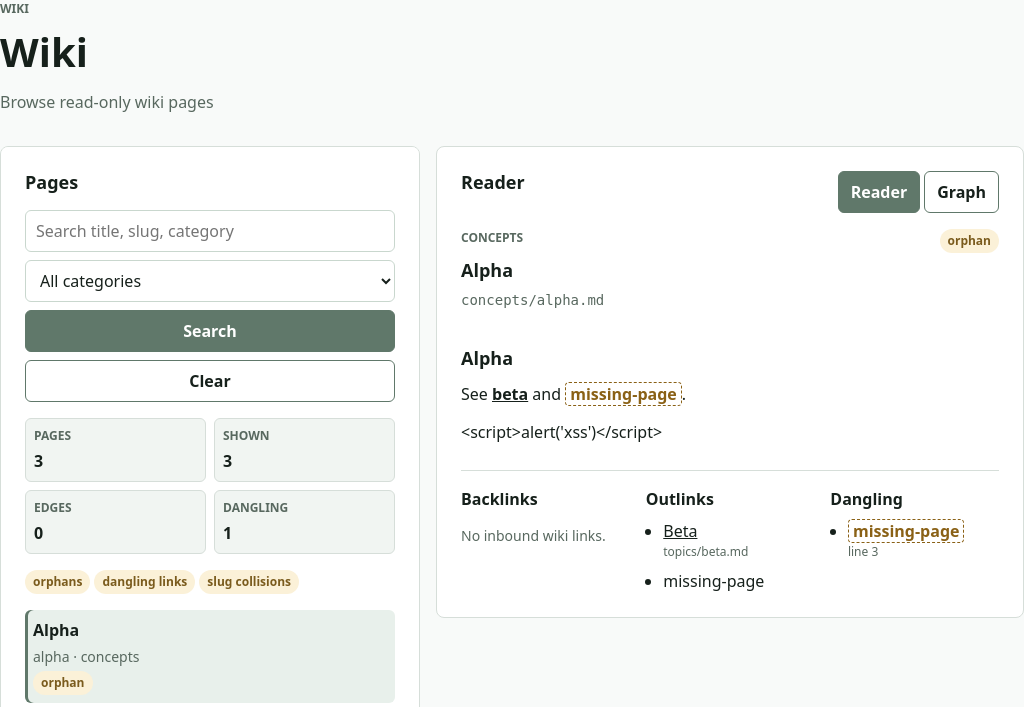
it: WikiRoute › renders read-only markdown, escapes raw HTML, and navigates wikilinks in-app
Check: the 1st heading "Alpha" is shown, box 461,258 -> 513,282
Check: the text "<script>alert('xss')</script>" is shown, box 461,421 -> 662,443
Click the link "beta".
click(510, 394)  # box 492,383 -> 528,405
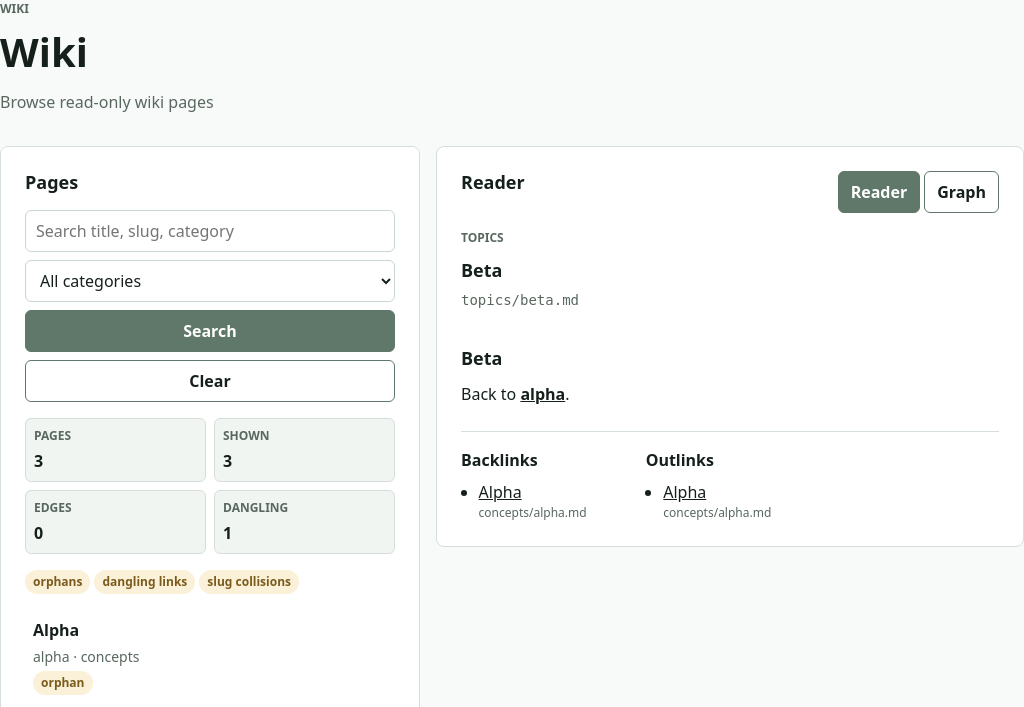
Check: the 1st heading "Beta" is shown, box 461,258 -> 502,282
